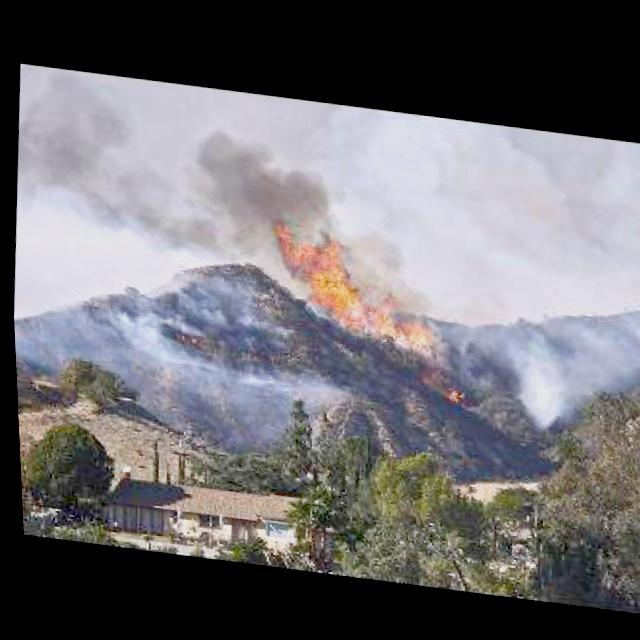Fire: (257, 198, 434, 346)
Smoke: (8, 239, 354, 460), (24, 78, 326, 260), (431, 251, 640, 433)
